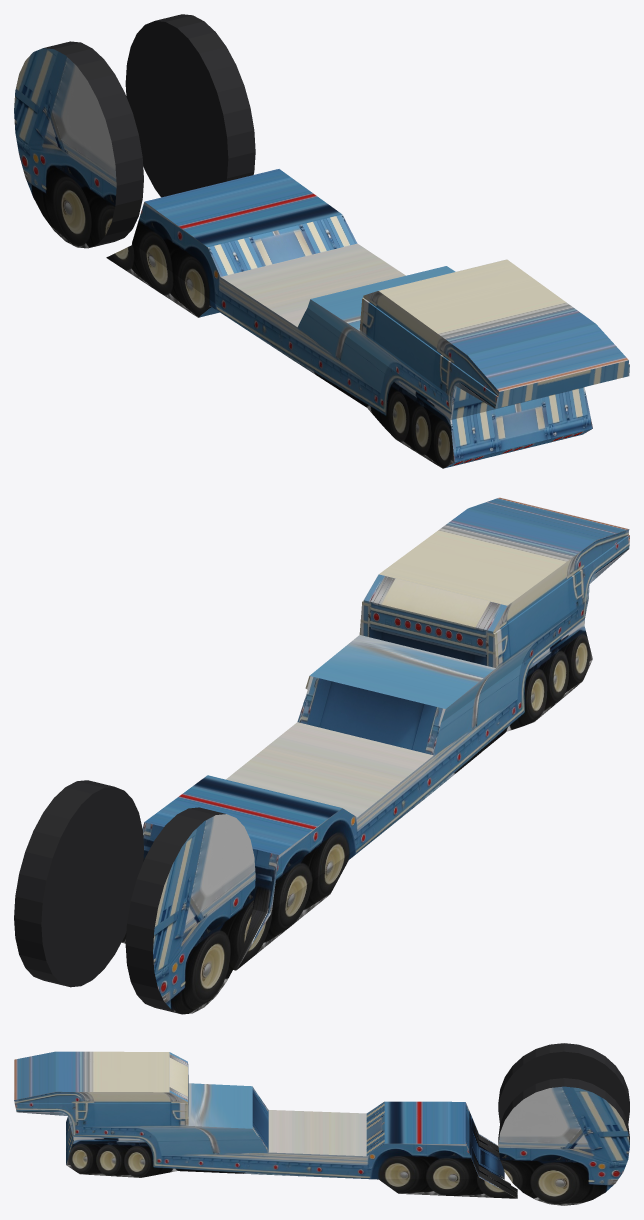
The model's file is low_loader.glb.
3 renders of one model, top to bottom at view 1: azimuth 30°, elevation 25°; view 2: azimuth 150°, elevation 25°; view 3: azimuth 270°, elevation 25°, orthographic. The views are drawn at different scales.
Parts seen in each view (by area): view 1: low_loader, wheel_FL, wheel_FR; view 2: low_loader, wheel_FL, wheel_FR; view 3: low_loader, wheel_FR, wheel_FL.
Part boxes in pixels (box(x1,y1,x2,y2)): low_loader: box(106, 169, 629, 468); wheel_FL: box(14, 41, 143, 248); wheel_FR: box(125, 14, 255, 197); low_loader: box(121, 497, 629, 970); wheel_FL: box(125, 807, 255, 1014); wheel_FR: box(14, 780, 143, 987); low_loader: box(14, 1051, 517, 1198); wheel_FR: box(498, 1078, 629, 1205); wheel_FL: box(498, 1043, 629, 1123).
Size of the model in its own units: 2.56 by 3.25 by 15.23.
3 materials, 1 textured.
